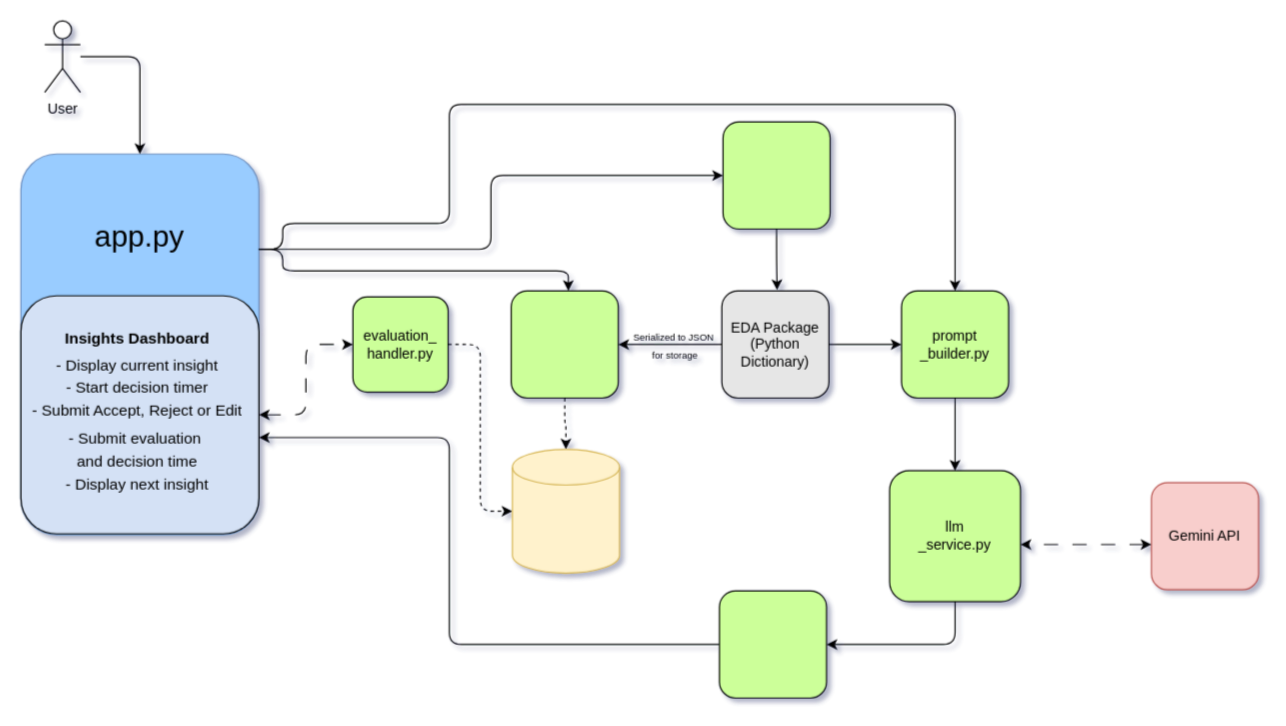
This 1286x726 diagram has some shape labels left out. Here are the shapes that lost their labels. From the top down, the centre of each, then its label:
At (x=776, y=175): "eda_engine.py".
At (x=564, y=344): "session _stored.py".
At (x=565, y=510): "haic _app.db".
At (x=772, y=644): "output_ parser.py".
